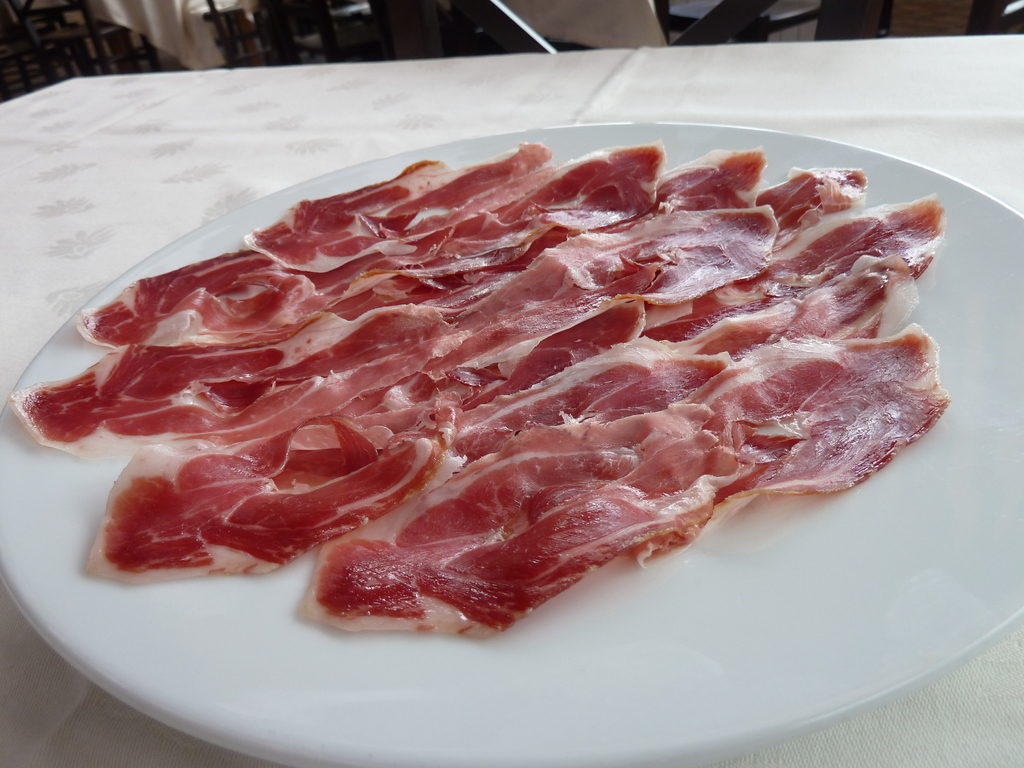person: (71, 0, 675, 67)
